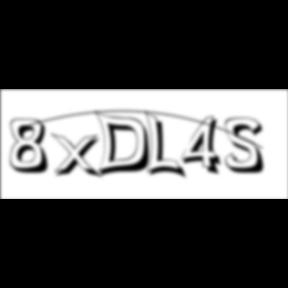4: (180, 115, 228, 179)
8: (10, 117, 55, 176)
D: (94, 110, 158, 180)
L: (145, 110, 189, 182)
S: (225, 117, 271, 176)
x: (52, 132, 106, 181)
